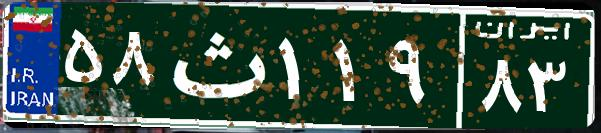1: (273, 28, 330, 110), (330, 28, 385, 110)
3: (525, 38, 570, 115)
5: (57, 26, 110, 107)
8: (475, 38, 525, 113), (110, 28, 158, 105)
9: (385, 28, 445, 110)
ث: (158, 15, 273, 115)
